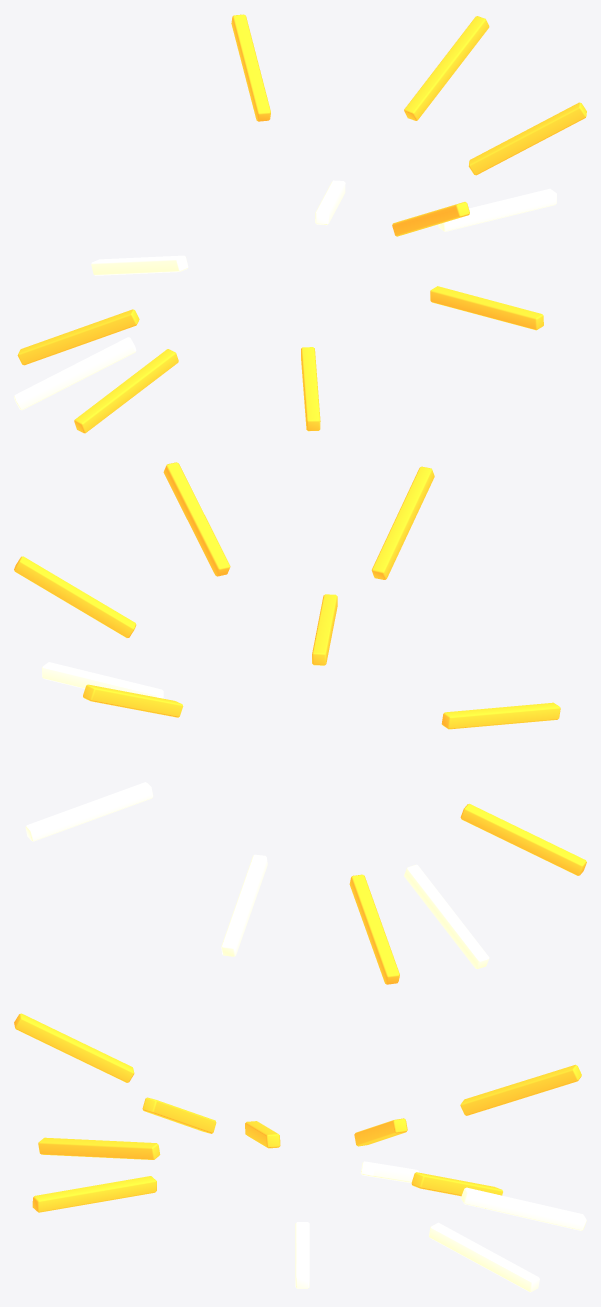
The model's file is VXFX_INTERCEPT_v002.fbx.
3 renders of one model, top to bottom at view 1: azimuth 30°, elevation 25°; view 2: azimuth 150°, elevation 25°; view 3: azimuth 270°, elevation 25°, orthographic. The views are drawn at different scales.
Parts seen in each view (by area): view 1: Radial impact shard.009, Radial impact shard.005, Radial impact shard.008, Radial impact shard.004, Radial impact shard.001, Radial impact shard.010, Radial impact shard, Radial impact shard.011, Radial impact shard.006, Radial impact shard.007, Radial impact shard.002, Radial impact shard.003; view 2: Radial impact shard.004, Radial impact shard.008, Radial impact shard.003, Radial impact shard.009, Radial impact shard.005, Radial impact shard.002, Radial impact shard.007, Radial impact shard.001, Radial impact shard.006, Radial impact shard, Radial impact shard.011, Radial impact shard.010; view 3: Radial impact shard.002, Radial impact shard.010, Radial impact shard.006, Radial impact shard.003, Radial impact shard.007, Radial impact shard.011, Radial impact shard.005, Radial impact shard.001, Radial impact shard, Radial impact shard.008, Radial impact shard.009, Radial impact shard.004.
Part boxes in pixels (<box>): Radial impact shard.009: <box>14,337,136,410</box>; Radial impact shard.005: <box>468,102,586,175</box>; Radial impact shard.008: <box>404,16,489,120</box>; Radial impact shard.004: <box>74,349,178,433</box>; Radial impact shard.001: <box>17,309,139,365</box>; Radial impact shard.010: <box>430,286,543,330</box>; Radial impact shard: <box>438,188,556,231</box>; Radial impact shard.011: <box>231,14,270,121</box>; Radial impact shard.006: <box>91,255,188,275</box>; Radial impact shard.007: <box>301,347,320,431</box>; Radial impact shard.002: <box>392,202,469,236</box>; Radial impact shard.003: <box>315,180,345,225</box>; Radial impact shard.004: <box>460,803,586,875</box>; Radial impact shard.008: <box>14,556,136,637</box>; Radial impact shard.003: <box>25,782,153,841</box>; Radial impact shard.009: <box>404,864,489,968</box>; Radial impact shard.005: <box>163,462,230,576</box>; Radial impact shard.002: <box>371,466,434,579</box>; Radial impact shard.007: <box>441,702,560,729</box>; Radial impact shard.001: <box>349,874,399,984</box>; Radial impact shard.006: <box>221,854,267,956</box>; Radial impact shard: <box>42,662,163,698</box>; Radial impact shard.011: <box>83,684,183,717</box>; Radial impact shard.010: <box>312,594,337,665</box>; Radial impact shard.002: <box>14,1013,134,1082</box>; Radial impact shard.010: <box>32,1176,156,1212</box>; Radial impact shard.006: <box>461,1187,586,1230</box>; Radial impact shard.003: <box>429,1222,539,1292</box>; Radial impact shard.007: <box>38,1137,160,1159</box>; Radial impact shard.011: <box>460,1064,581,1115</box>; Radial impact shard.005: <box>142,1097,216,1133</box>; Radial impact shard.001: <box>411,1172,502,1196</box>; Radial impact shard: <box>295,1222,309,1288</box>; Radial impact shard.008: <box>354,1118,407,1146</box>; Radial impact shard.009: <box>360,1161,419,1183</box>; Radial impact shard.004: <box>245,1121,280,1148</box>.
Size of the model in its own units: 33.19 by 18.49 by 32.5.
